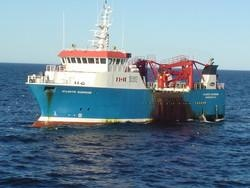Cargoship: (19, 2, 229, 129)
